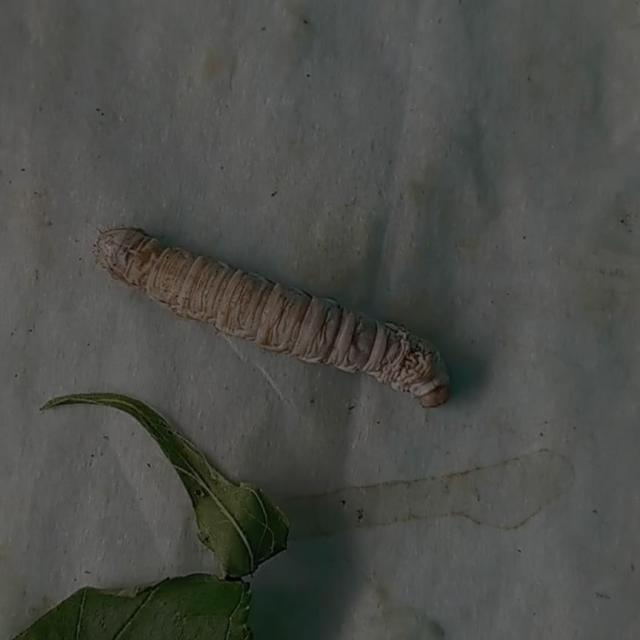Grasserie: (80, 202, 464, 424)
